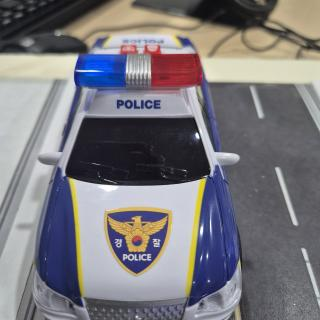Police_car: (33, 34, 242, 320)
